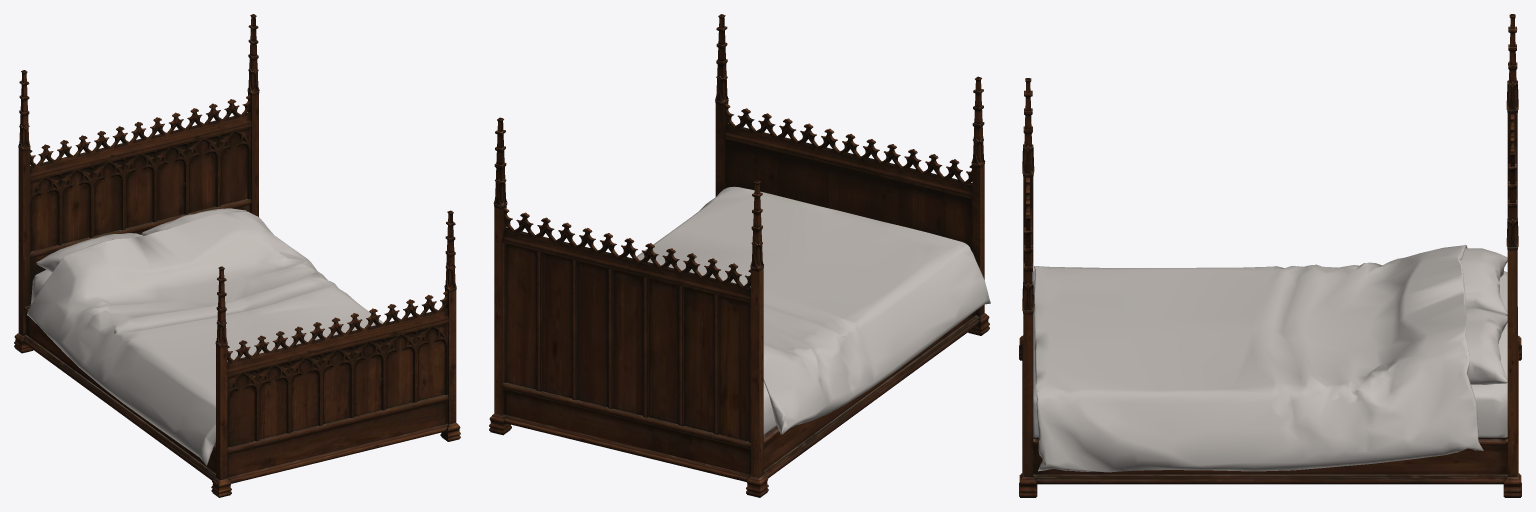
Rendered from GothicBed_01.glb.
3 views of the same model, side by side, from view 1: azimuth 30°, elevation 25°; view 2: azimuth 150°, elevation 25°; view 3: azimuth 270°, elevation 25° (orthographic). The views are drawn at different scales.
Parts seen in each view (by area): view 1: GothicBed_01; view 2: GothicBed_01; view 3: GothicBed_01.
Part boxes in pixels (x1,y1,x2,y2): GothicBed_01: [14, 14, 460, 497]; GothicBed_01: [489, 14, 990, 497]; GothicBed_01: [1019, 14, 1521, 497].
Bounding box in the file's own units: 1.49 × 1.53 × 2.04.
1 material, 1 textured.
